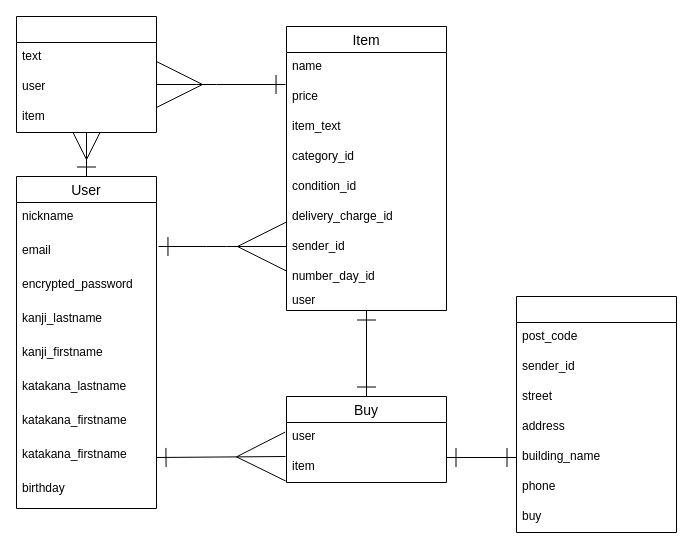
This 693x549 diagram has some shape labels left out. Here are the shapes that lost their labels. From the top down, the box of each, then its label:
(16, 16, 156, 132): Comment
(516, 296, 676, 532): Place
